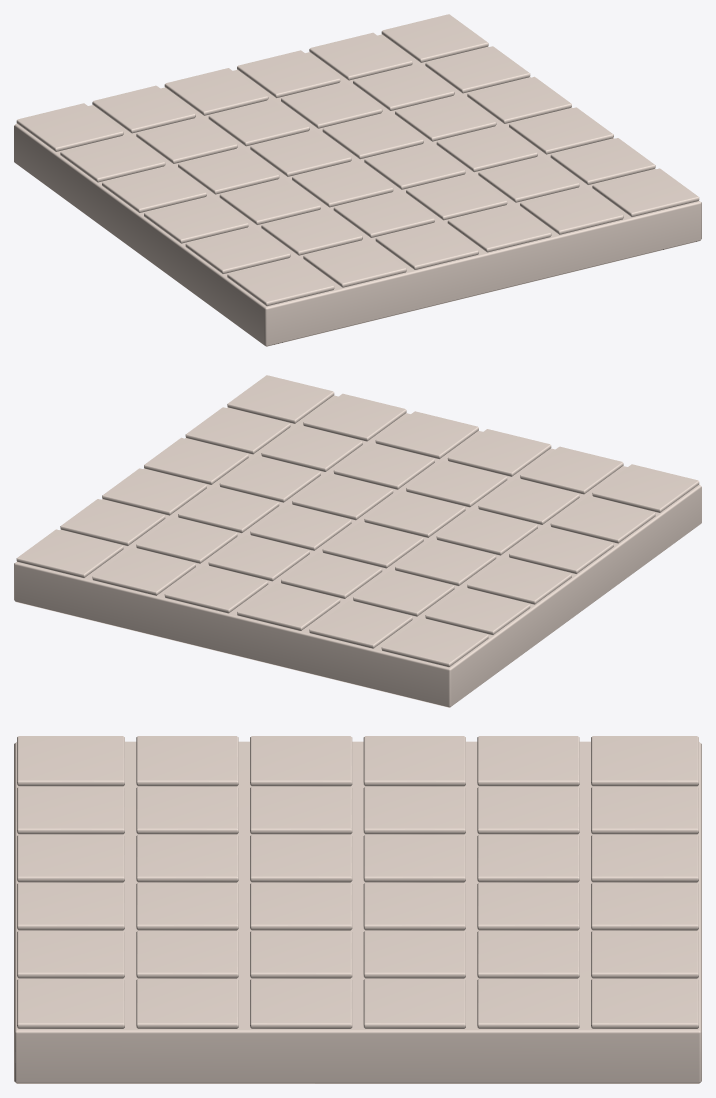
Rendered from Floor_5.glb.
3 renders of one model, top to bottom at view 1: azimuth 30°, elevation 25°; view 2: azimuth 150°, elevation 25°; view 3: azimuth 270°, elevation 25°, orthographic. The views are drawn at different scales.
Parts seen in each view (by area): view 1: Floor_5; view 2: Floor_5; view 3: Floor_5.
Boxes of the visible parts, box(x1,y1,x2,y2) form: Floor_5: box(14, 14, 701, 346); Floor_5: box(14, 375, 701, 707); Floor_5: box(14, 736, 701, 1083).
Size of the model in its own units: 4.6 by 0.446 by 4.6.
1 material, 1 textured.
